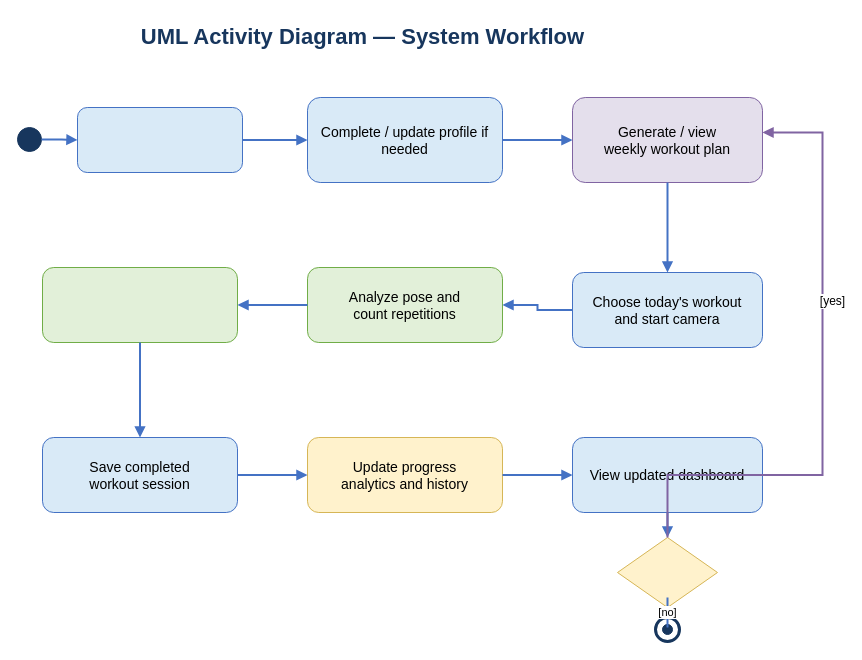
Image size: 862x660. Some labels were removed from this diagram. Here are the shapes that lost their labels. From the top down, the centre of each, then its label:
the point at 159,139: Register / sign in
the point at 140,304: Show live form feedback and progress
the point at 667,572: Another workout?
